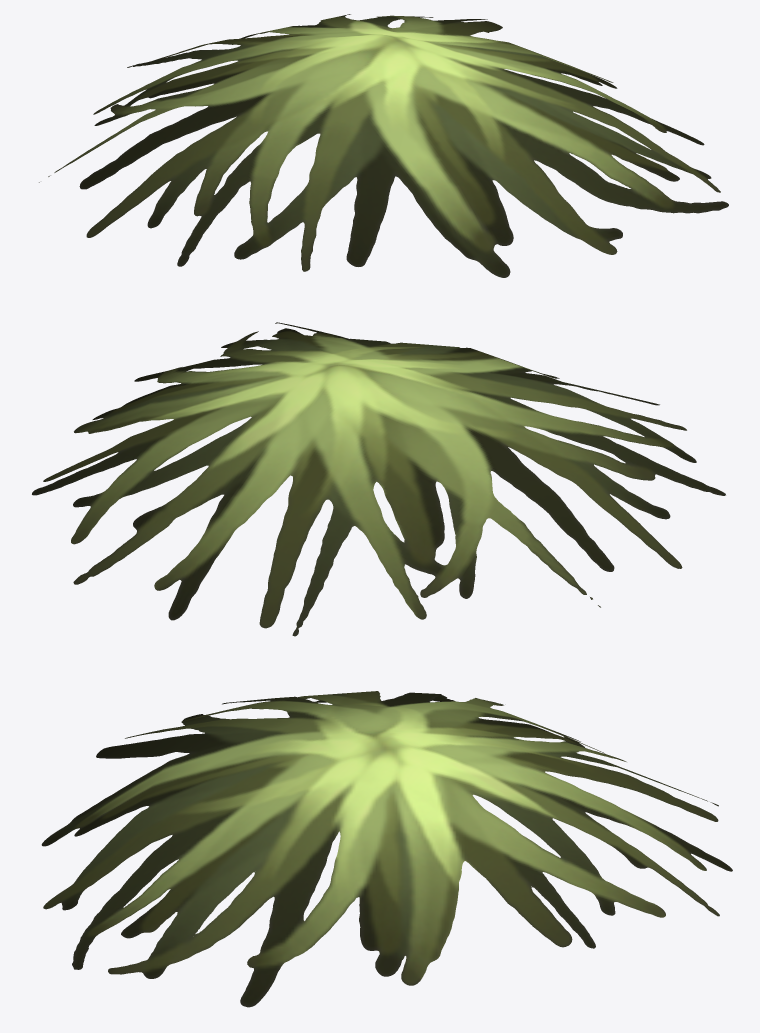
Rendered from painted-grass-002.glb.
3 renders of one model, top to bottom at view 1: azimuth 30°, elevation 25°; view 2: azimuth 150°, elevation 25°; view 3: azimuth 270°, elevation 25°, orthographic. The views are drawn at different scales.
Bounding box in the file's own units: 7.56 × 1.57 × 7.48.
1 material, 1 textured.
